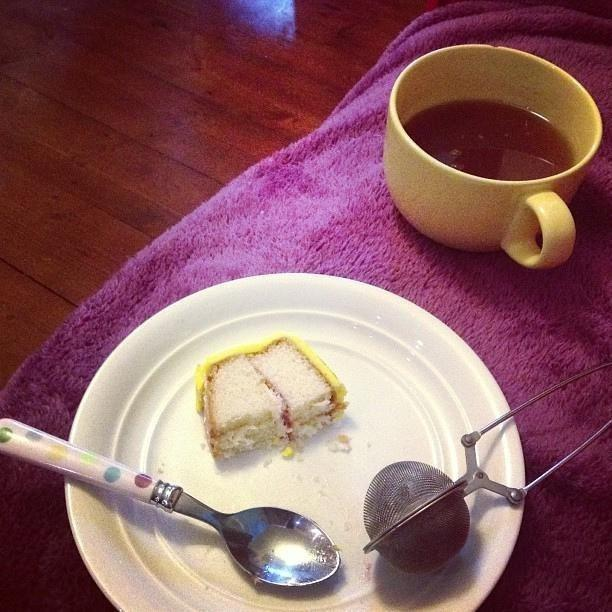cup-handle: (382, 42, 605, 271)
